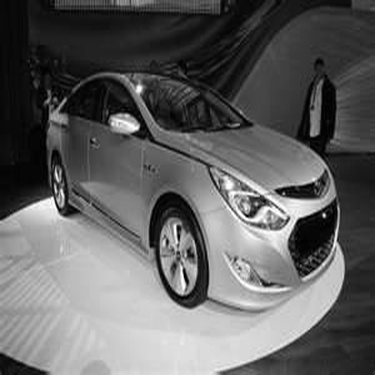car: (14, 54, 353, 307)
